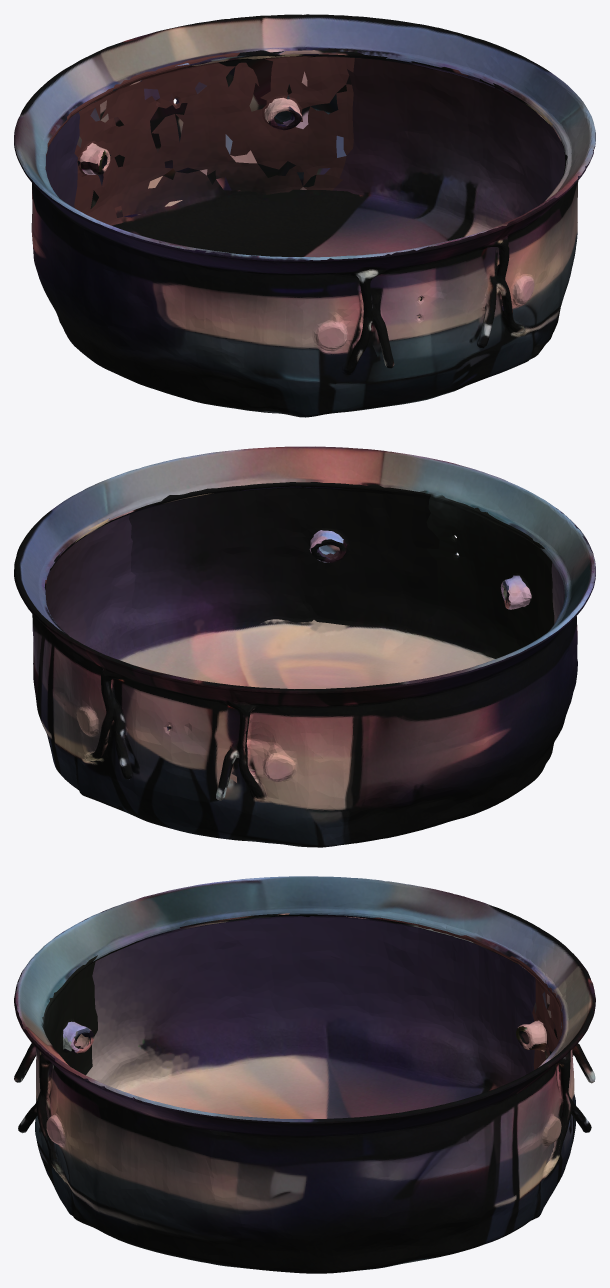
Rendered from image_0001_segmented.glb.
3 renders of one model, top to bottom at view 1: azimuth 30°, elevation 25°; view 2: azimuth 150°, elevation 25°; view 3: azimuth 270°, elevation 25°, orthographic.
Parts seen in each view (by area): view 1: tmp289zxj_m.ply; view 2: tmp289zxj_m.ply; view 3: tmp289zxj_m.ply.
Boxes of the visible parts, bbox=[...] form: tmp289zxj_m.ply: bbox=[14, 14, 595, 417]; tmp289zxj_m.ply: bbox=[14, 446, 595, 847]; tmp289zxj_m.ply: bbox=[14, 876, 595, 1273].
Bounding box in the file's own units: 1.99 × 0.7094 × 2.
1 material, 1 textured.
